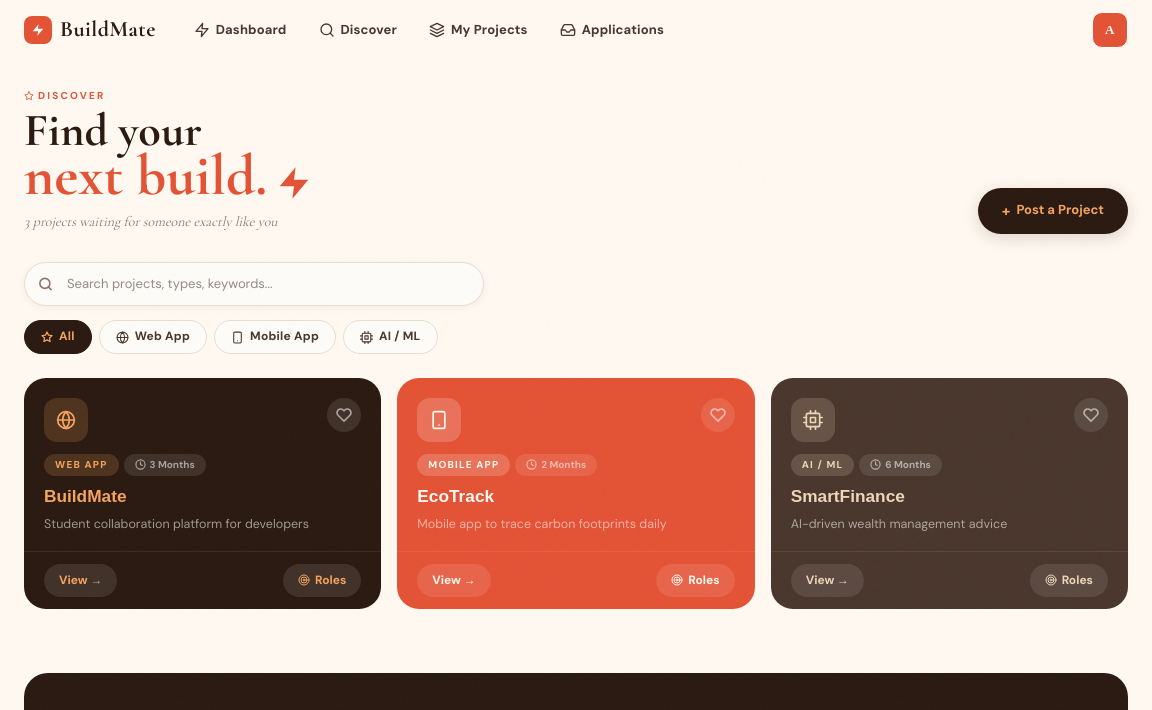
Test: ProjectSwipe › renders empty state when no projects match search filters
This screenshot has width=1152, height=710.
Expected: the heading "BuildMate" is shown, [44, 486, 126, 506]
Step 1. Type "noprojectmatches" into the field with placeholder "Search projects, types, keywords..." → coordinates (254, 284), box [24, 262, 484, 306]
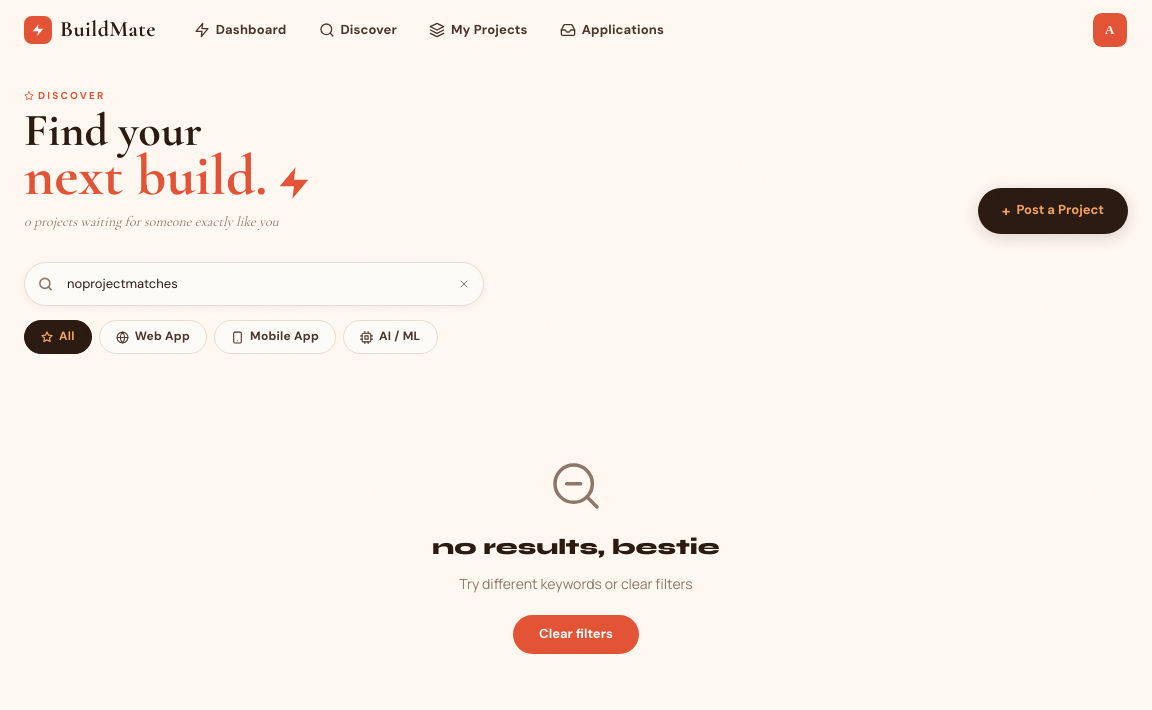
Now the heading "no results, bestie" is shown, box [432, 534, 720, 560]
Step 2. Click the button "Clear filters" → coordinates (576, 635), box [513, 615, 639, 654]
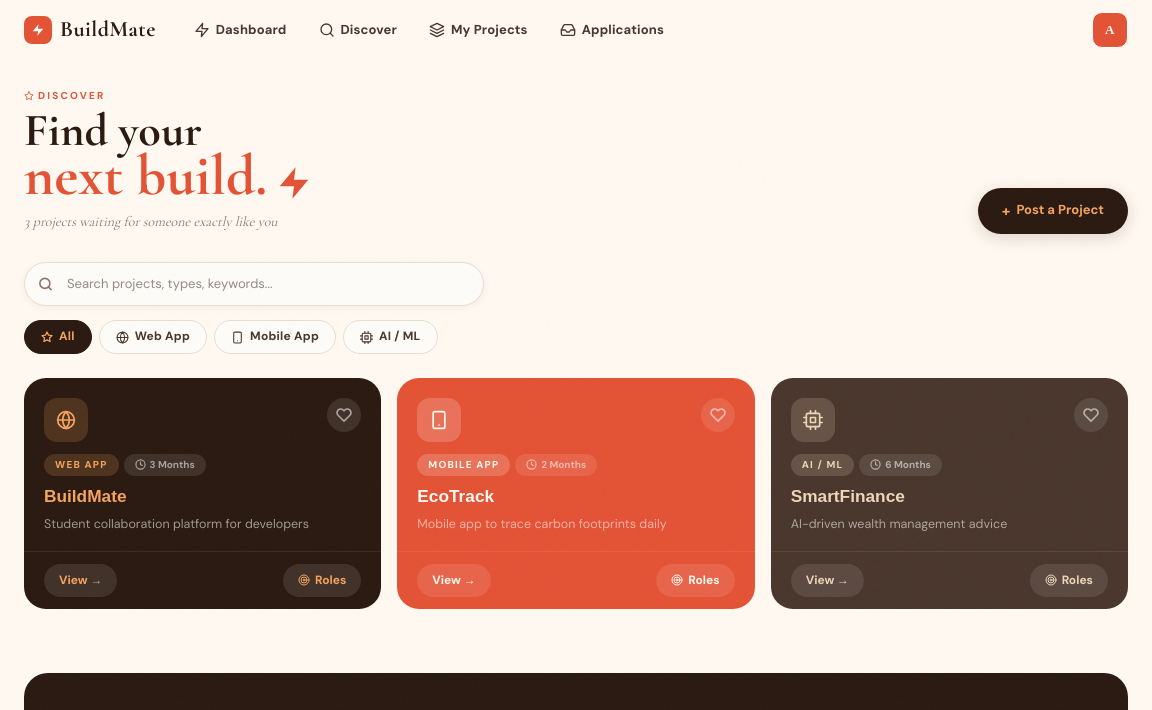
Now the heading "BuildMate" is shown, box [44, 486, 126, 506]
Now the field with placeholder "Search projects, types, keywords..." is empty, box [24, 262, 484, 306]
